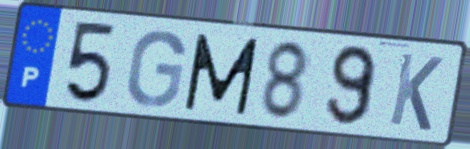5: (60, 18, 122, 106)
8: (259, 38, 313, 123)
9: (323, 42, 380, 130)
G: (123, 28, 188, 110)
K: (385, 49, 446, 135)
M: (181, 30, 263, 118)
